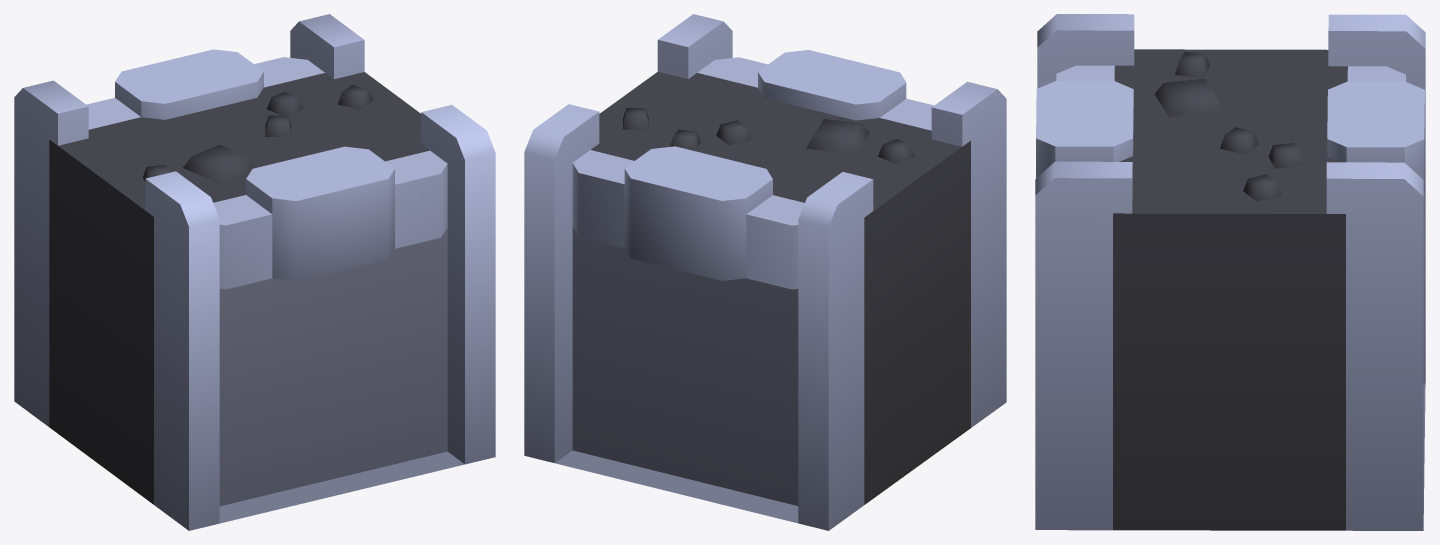
The model's file is wall-narrow.071_lev5.glb.
3 views of the same model, side by side, from view 1: azimuth 30°, elevation 25°; view 2: azimuth 150°, elevation 25°; view 3: azimuth 270°, elevation 25° (orthographic). The views are drawn at different scales.
Visible parts, largest first — view 1: wall-narrow.071_lev5; view 2: wall-narrow.071_lev5; view 3: wall-narrow.071_lev5.
Part boxes in pixels (x1,y1,x2,y2): wall-narrow.071_lev5: (14, 14, 495, 530); wall-narrow.071_lev5: (524, 14, 1006, 530); wall-narrow.071_lev5: (1035, 14, 1425, 530).
Size of the model in its own units: 5.03 by 5 by 5.03.
1 material, 1 textured.
